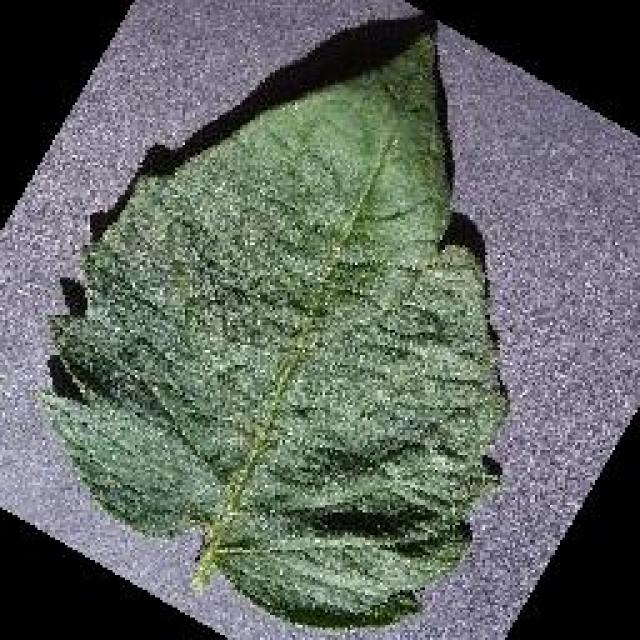Tomato___healthy: (29, 31, 511, 633)
